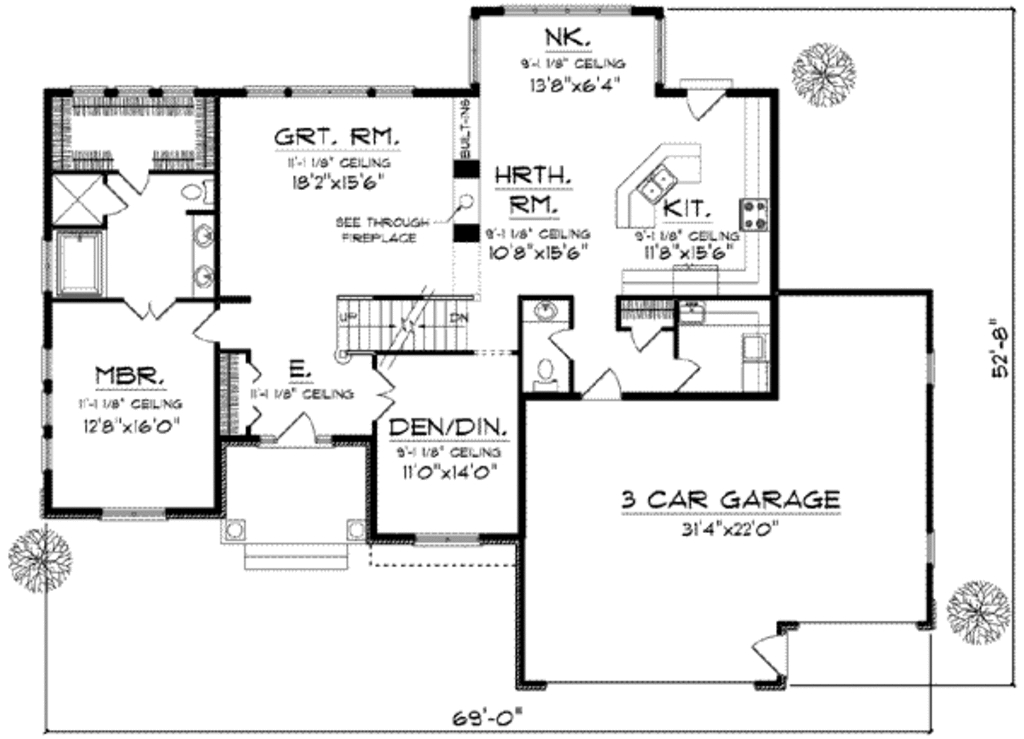door: (125, 289, 183, 322), (583, 366, 629, 404), (275, 407, 315, 447), (684, 92, 735, 123), (100, 180, 127, 229), (670, 352, 699, 397), (626, 322, 661, 356), (191, 305, 219, 347), (546, 320, 576, 359)
kitchen_bar: (613, 141, 704, 233)
large_sink: (178, 174, 217, 212)
small_sink: (187, 210, 218, 297)
stairs: (329, 287, 475, 367)
tub: (55, 226, 112, 301)
windows: (33, 342, 58, 477), (243, 83, 422, 100), (497, 4, 639, 18), (91, 504, 176, 527), (406, 529, 478, 550), (923, 344, 940, 394), (922, 524, 940, 568)
